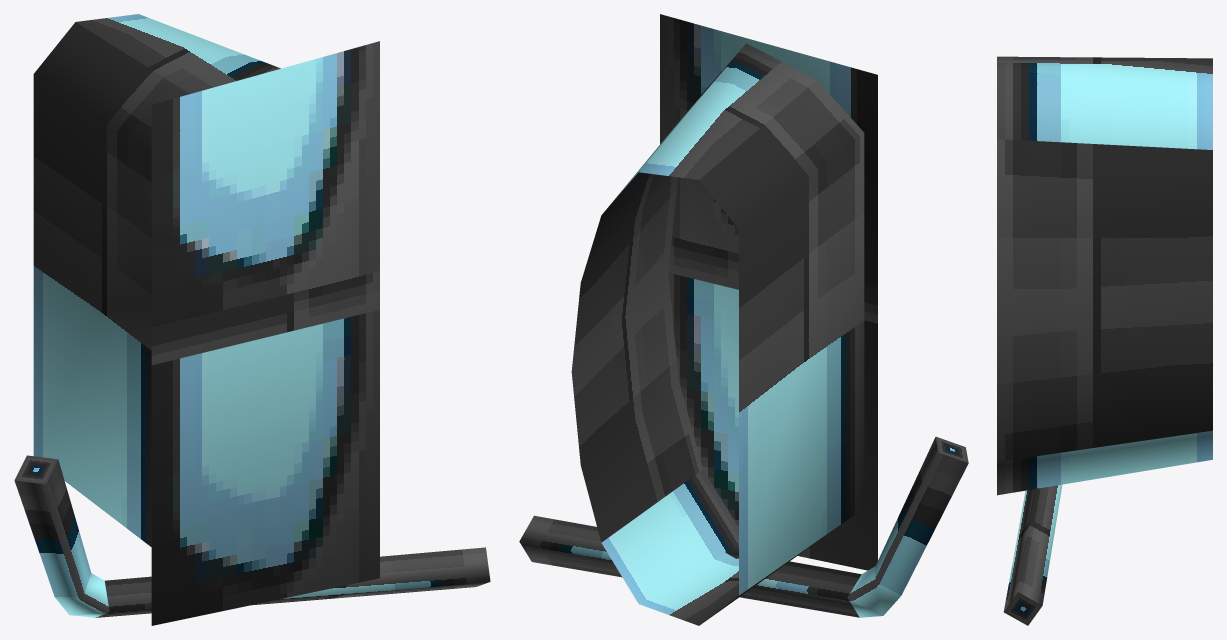
Rendered from acc_mask_snorkel.dae.
3 renders of one model, left to right at view 1: azimuth 30°, elevation 25°; view 2: azimuth 150°, elevation 25°; view 3: azimuth 270°, elevation 25°, orthographic. The views are drawn at different scales.
Visible parts, largest first — view 1: acc_mask_snorkel; view 2: acc_mask_snorkel; view 3: acc_mask_snorkel.
Boxes of the visible parts, bbox=[...] form: acc_mask_snorkel: bbox=[14, 14, 490, 625]; acc_mask_snorkel: bbox=[519, 14, 968, 625]; acc_mask_snorkel: bbox=[997, 56, 1212, 625].
Size of the model in its own units: 17.08 by 20.68 by 8.4.
2 materials, 2 textured.
